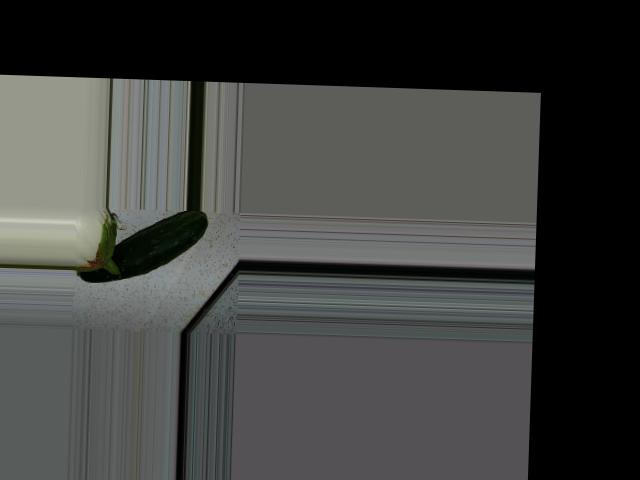cucumber: (76, 206, 208, 285)
